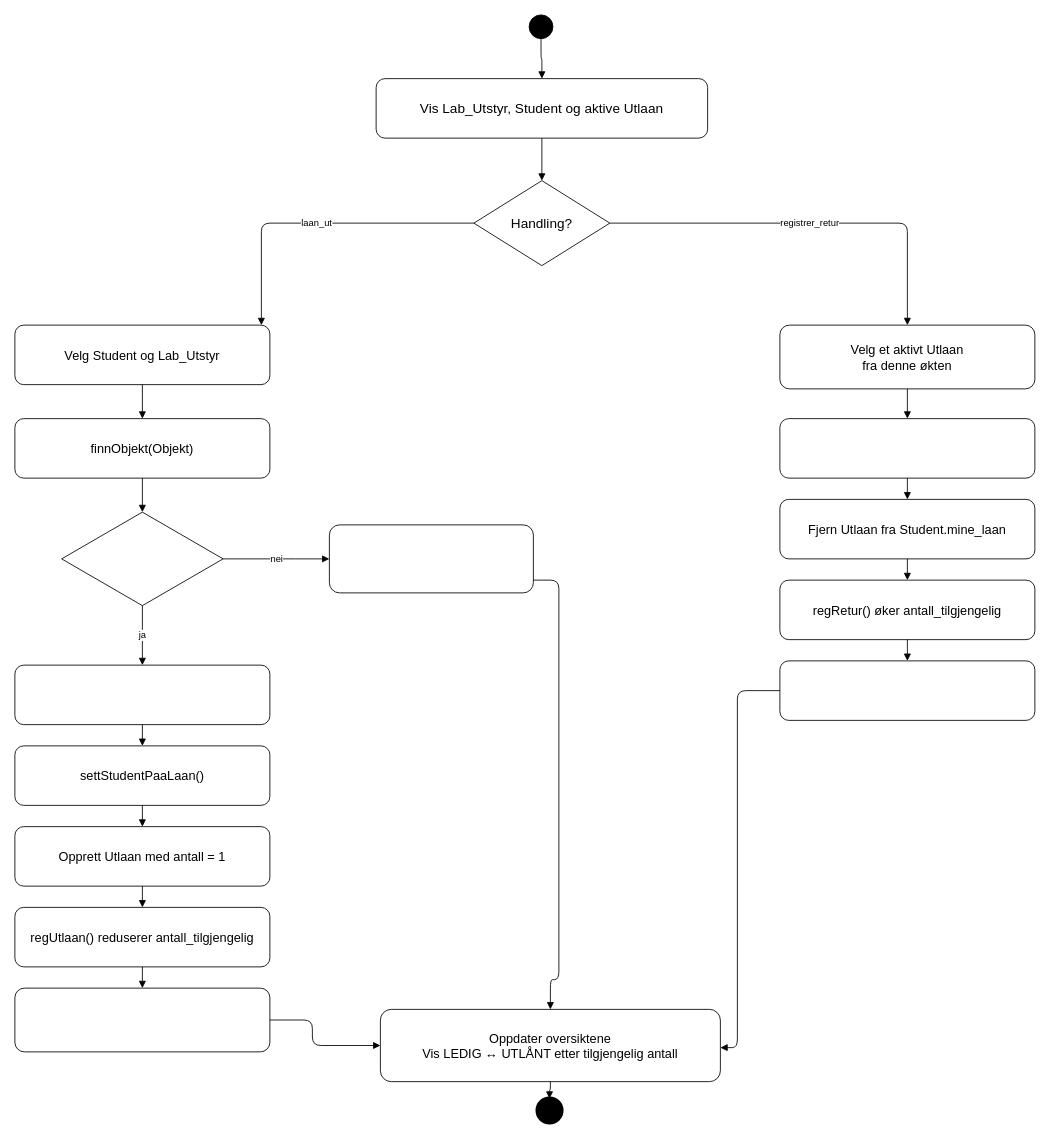
This 1050x1139 diagram has some shape labels left out. Each missing label, with the centre of its shape:
"finnStudent(Student)" belongs at (x=142, y=694).
"Fjern Utlaan fra Lab.utlaansliste" belongs at (x=907, y=690).
"Legg Utlaan i Lab.utlaansliste og Student.mine_laan" belongs at (x=142, y=1019).
"registrer_retur(utlaan)" belongs at (x=907, y=448).
"Tilgjengelig?" belongs at (x=142, y=558).
"Vis melding om utilgjengelig utstyr" belongs at (x=431, y=558).
